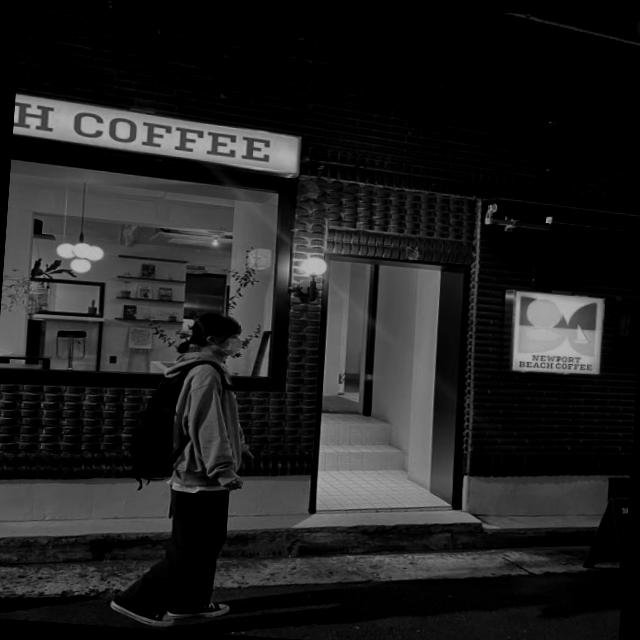cottonpants: (108, 480, 224, 620)
hoodies: (154, 348, 248, 489)
